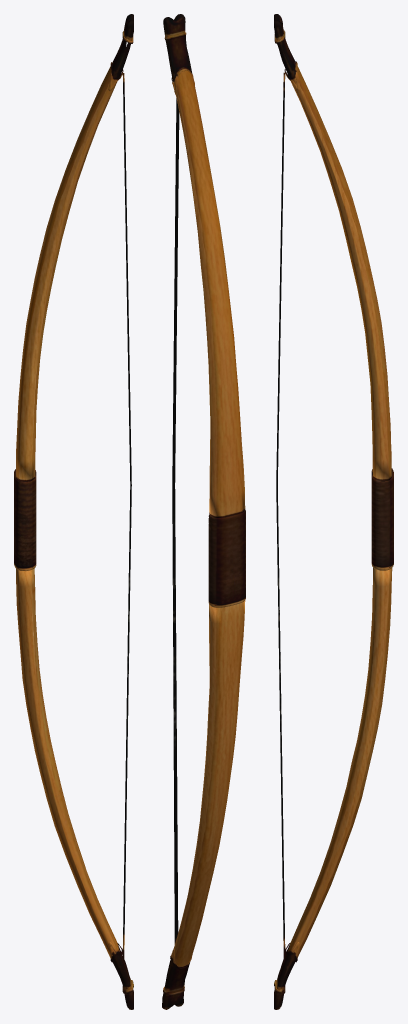
Rendered from bow.glb.
3 views of the same model, side by side, from view 1: azimuth 90°, elevation 25°; view 2: azimuth 210°, elevation 25°; view 3: azimuth 270°, elevation 25° (orthographic).
Visible parts, largest first — view 1: tripo_65e22bf8_e3d6_4f61_925c_eb7c5f84c9a4; view 2: tripo_65e22bf8_e3d6_4f61_925c_eb7c5f84c9a4; view 3: tripo_65e22bf8_e3d6_4f61_925c_eb7c5f84c9a4.
Boxes of the visible parts, x1,y1,x2,y2 form: tripo_65e22bf8_e3d6_4f61_925c_eb7c5f84c9a4: (14,14,133,1009); tripo_65e22bf8_e3d6_4f61_925c_eb7c5f84c9a4: (162,14,245,1009); tripo_65e22bf8_e3d6_4f61_925c_eb7c5f84c9a4: (274,14,393,1009).
Bounding box in the file's own units: 0.0458 × 1.25 × 0.1373.
Materials: 1 (1 with a texture image).
